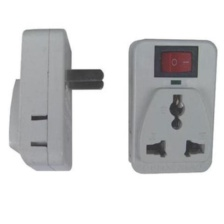three_eye_plug: (6, 24, 109, 176), (126, 38, 220, 175)
